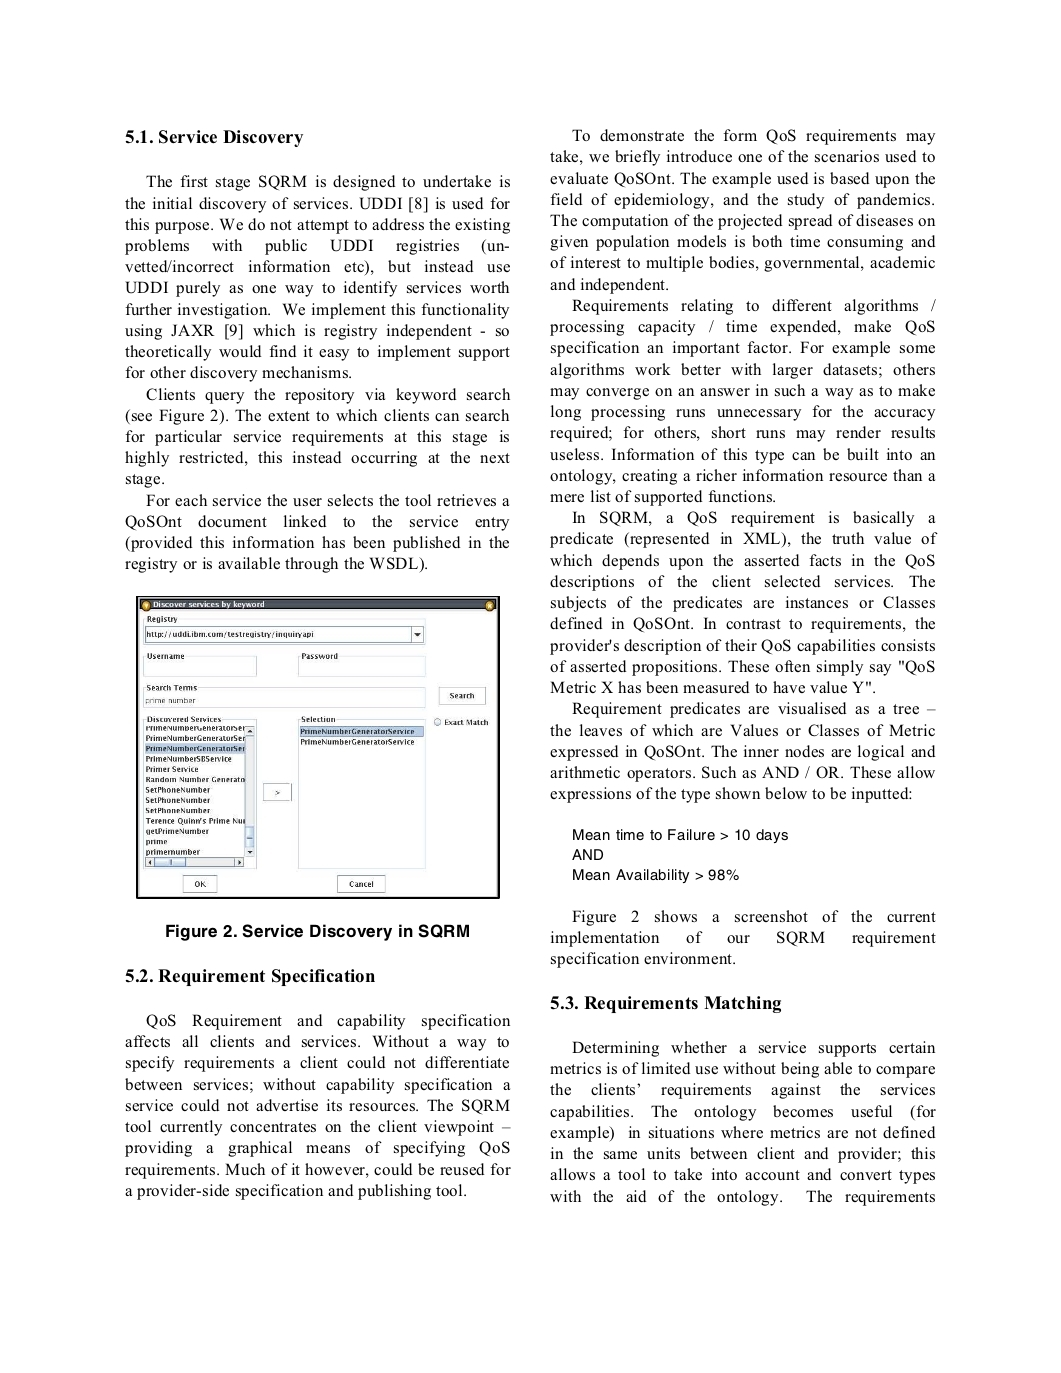figure: (136, 595, 499, 899)
